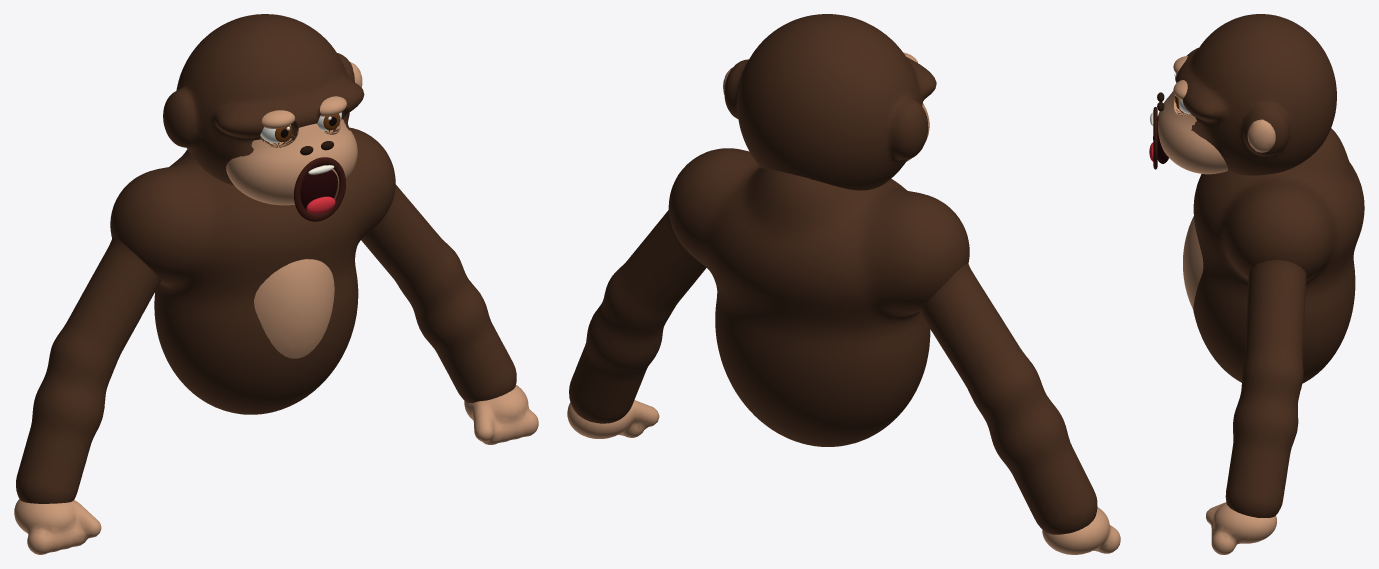
Rendered from ape.glb.
3 views of the same model, side by side, from view 1: azimuth 30°, elevation 25°; view 2: azimuth 150°, elevation 25°; view 3: azimuth 270°, elevation 25° (orthographic). The views are drawn at different scales.
Visible parts, largest first — view 1: Body, Head, Arm_R, Arm_L, Mouth; view 2: Body, Head, Arm_R, Arm_L; view 3: Body, Head, Arm_L, Mouth.
Part boxes in pixels (bbox=[...]): Body: bbox=[110, 127, 395, 414]; Head: bbox=[163, 14, 364, 205]; Arm_R: bbox=[14, 237, 160, 554]; Arm_L: bbox=[361, 184, 538, 444]; Mouth: bbox=[294, 157, 345, 221]; Body: bbox=[668, 148, 969, 446]; Head: bbox=[723, 14, 936, 190]; Arm_R: bbox=[919, 263, 1120, 554]; Arm_L: bbox=[567, 210, 706, 438]; Body: bbox=[1183, 128, 1364, 383]; Head: bbox=[1157, 14, 1336, 175]; Arm_L: bbox=[1206, 260, 1306, 554]; Mouth: bbox=[1149, 107, 1168, 169].
Bounding box in the file's own units: 1.76 × 1.52 × 0.6999.
